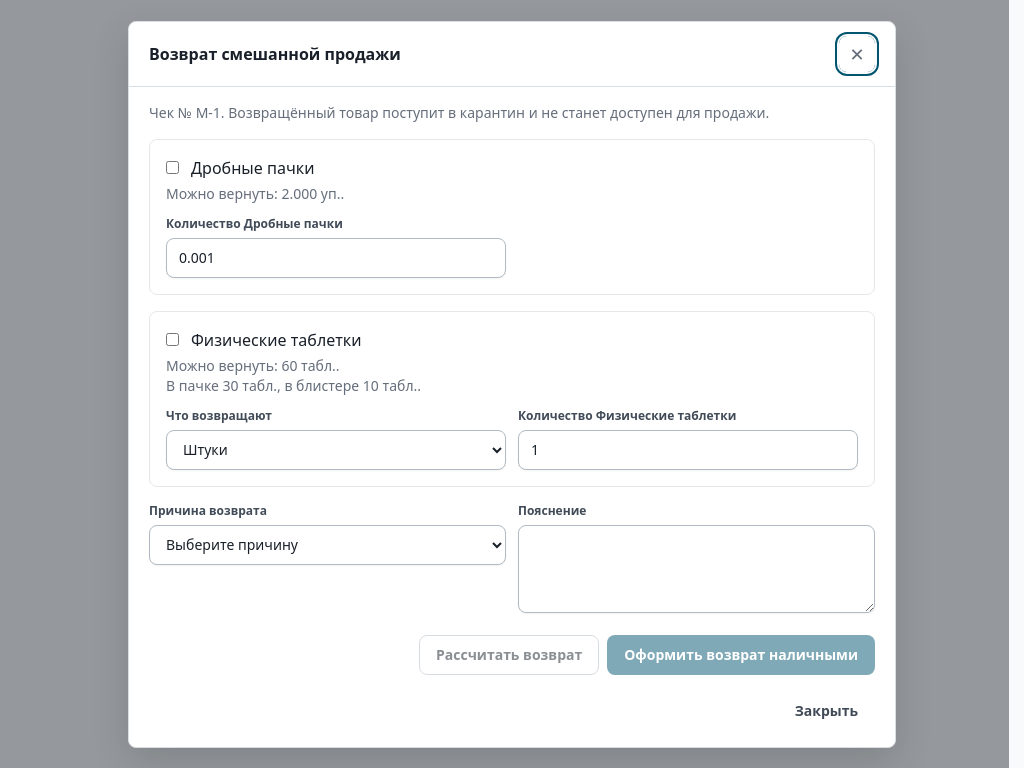
Test: mixed refund dialog › invalidates review after changing physical
This screenshot has width=1024, height=768.
Click the checkbox labelled "Дробные пачки".
click(172, 168)  # box [166, 161, 179, 174]
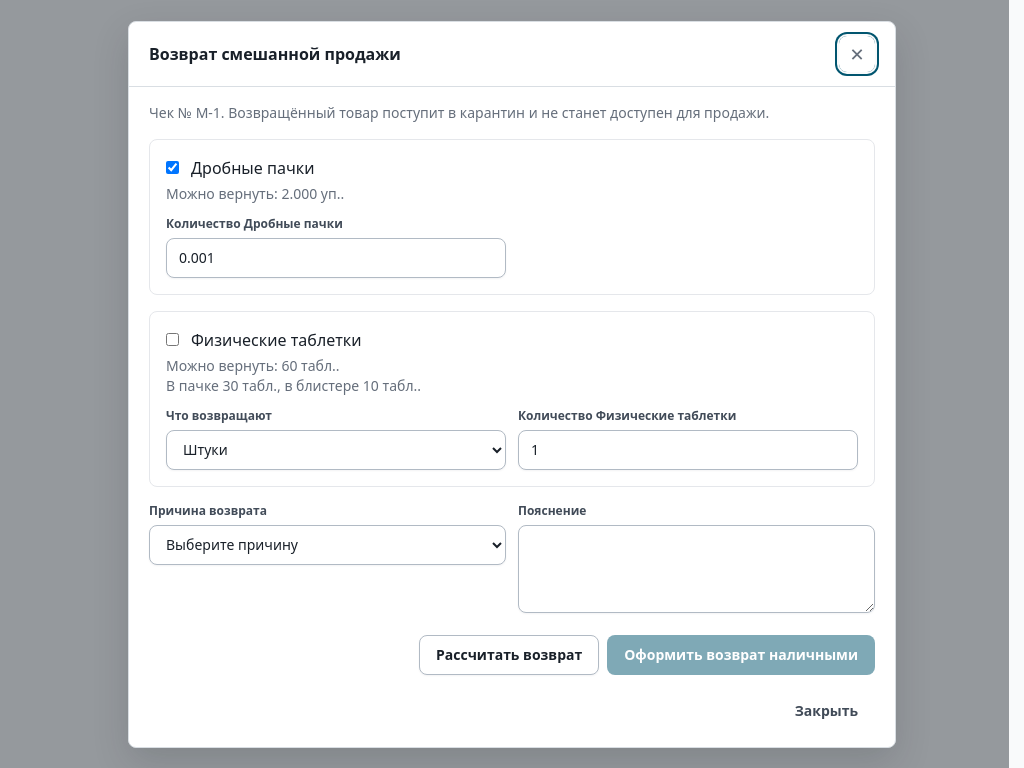
Click the checkbox labelled "Физические таблетки".
click(172, 340)  # box [166, 333, 179, 346]
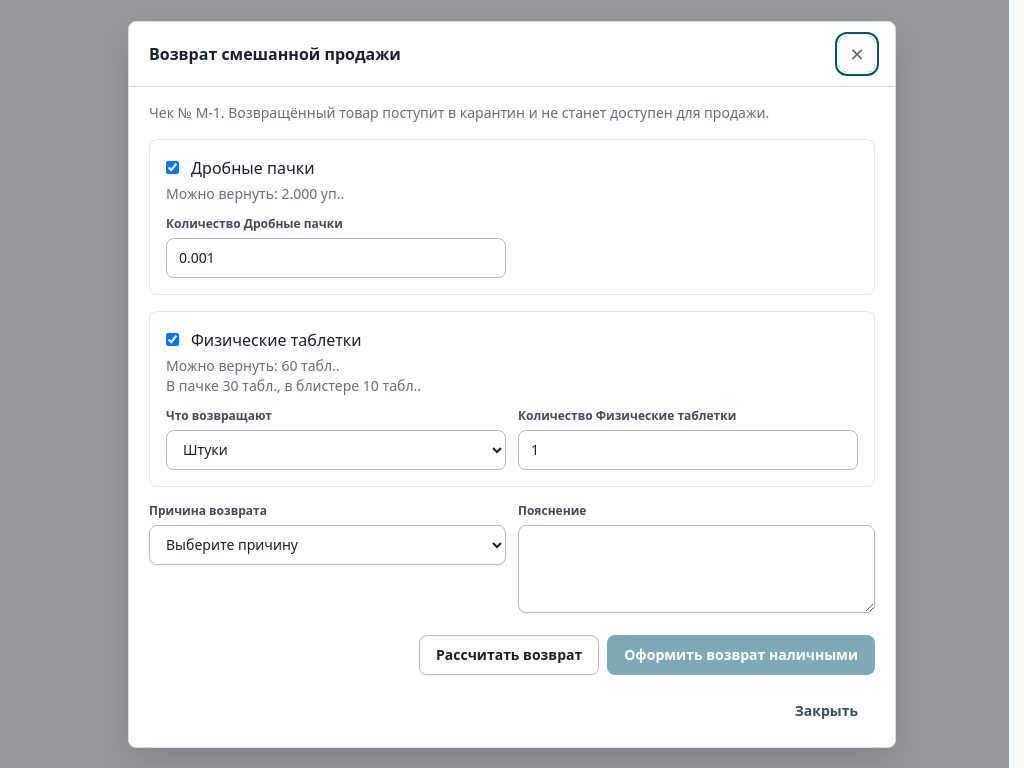
Click the button "Рассчитать возврат".
click(509, 654)  # box [419, 634, 599, 674]
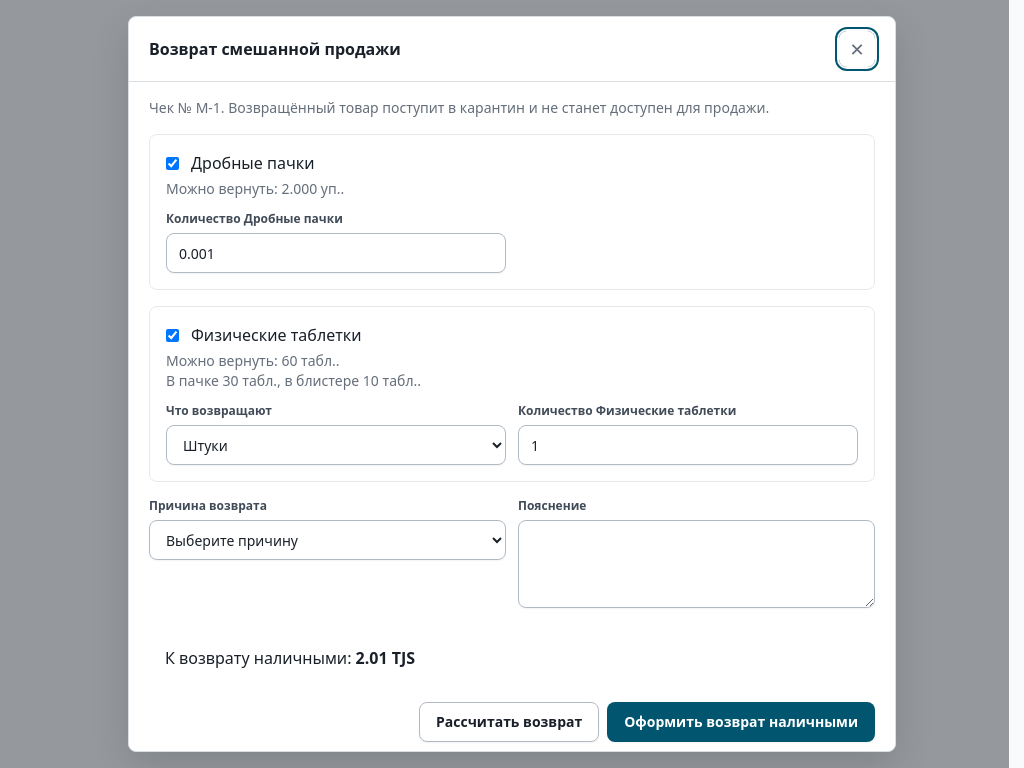
expect the text "2.01 TJS" is shown: met, box [356, 647, 415, 669]
expect the button "Оформить возврат наличными" is enabled: met, box [607, 702, 875, 742]
Replace the text in the number field labelled "Количество Физические таблетки" with "2" at (688, 445), box [518, 425, 858, 465]
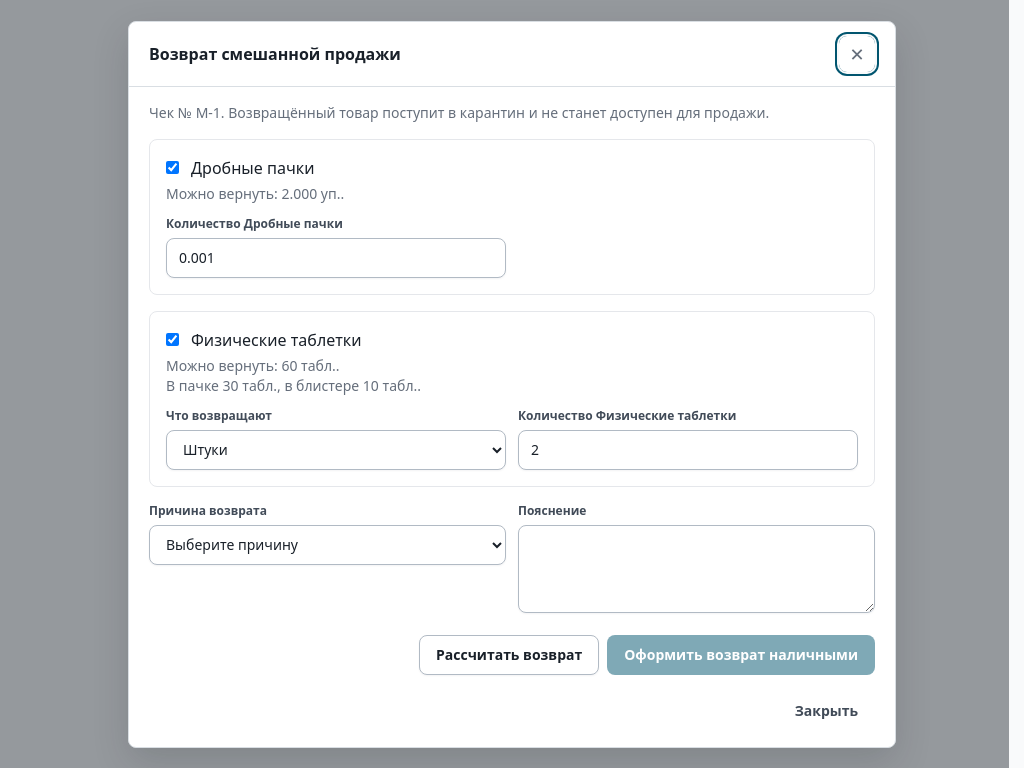
expect the button "Оформить возврат наличными" is disabled: met, box [607, 634, 875, 674]
expect the text "2.01 TJS" is gone: met
